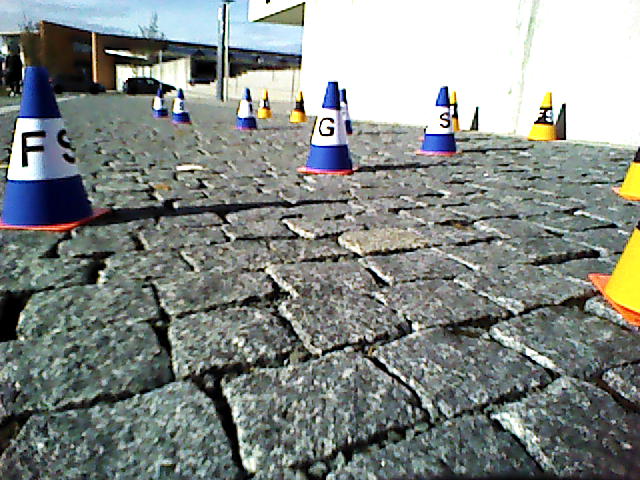bluecone: (3, 67, 90, 223), (310, 82, 351, 169), (424, 87, 456, 152), (237, 90, 255, 128)
yellowcone: (529, 92, 557, 140), (289, 92, 307, 122)
